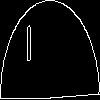I: (25, 24, 33, 71)
